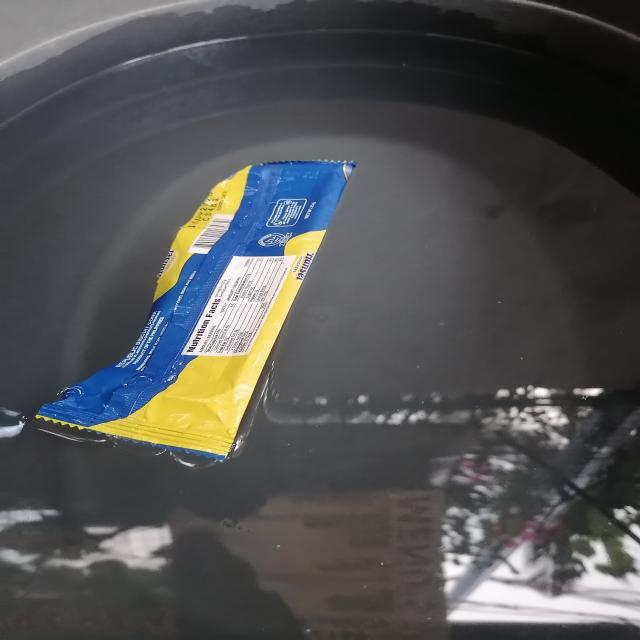Plastic Wrapper: (0, 132, 390, 467)
